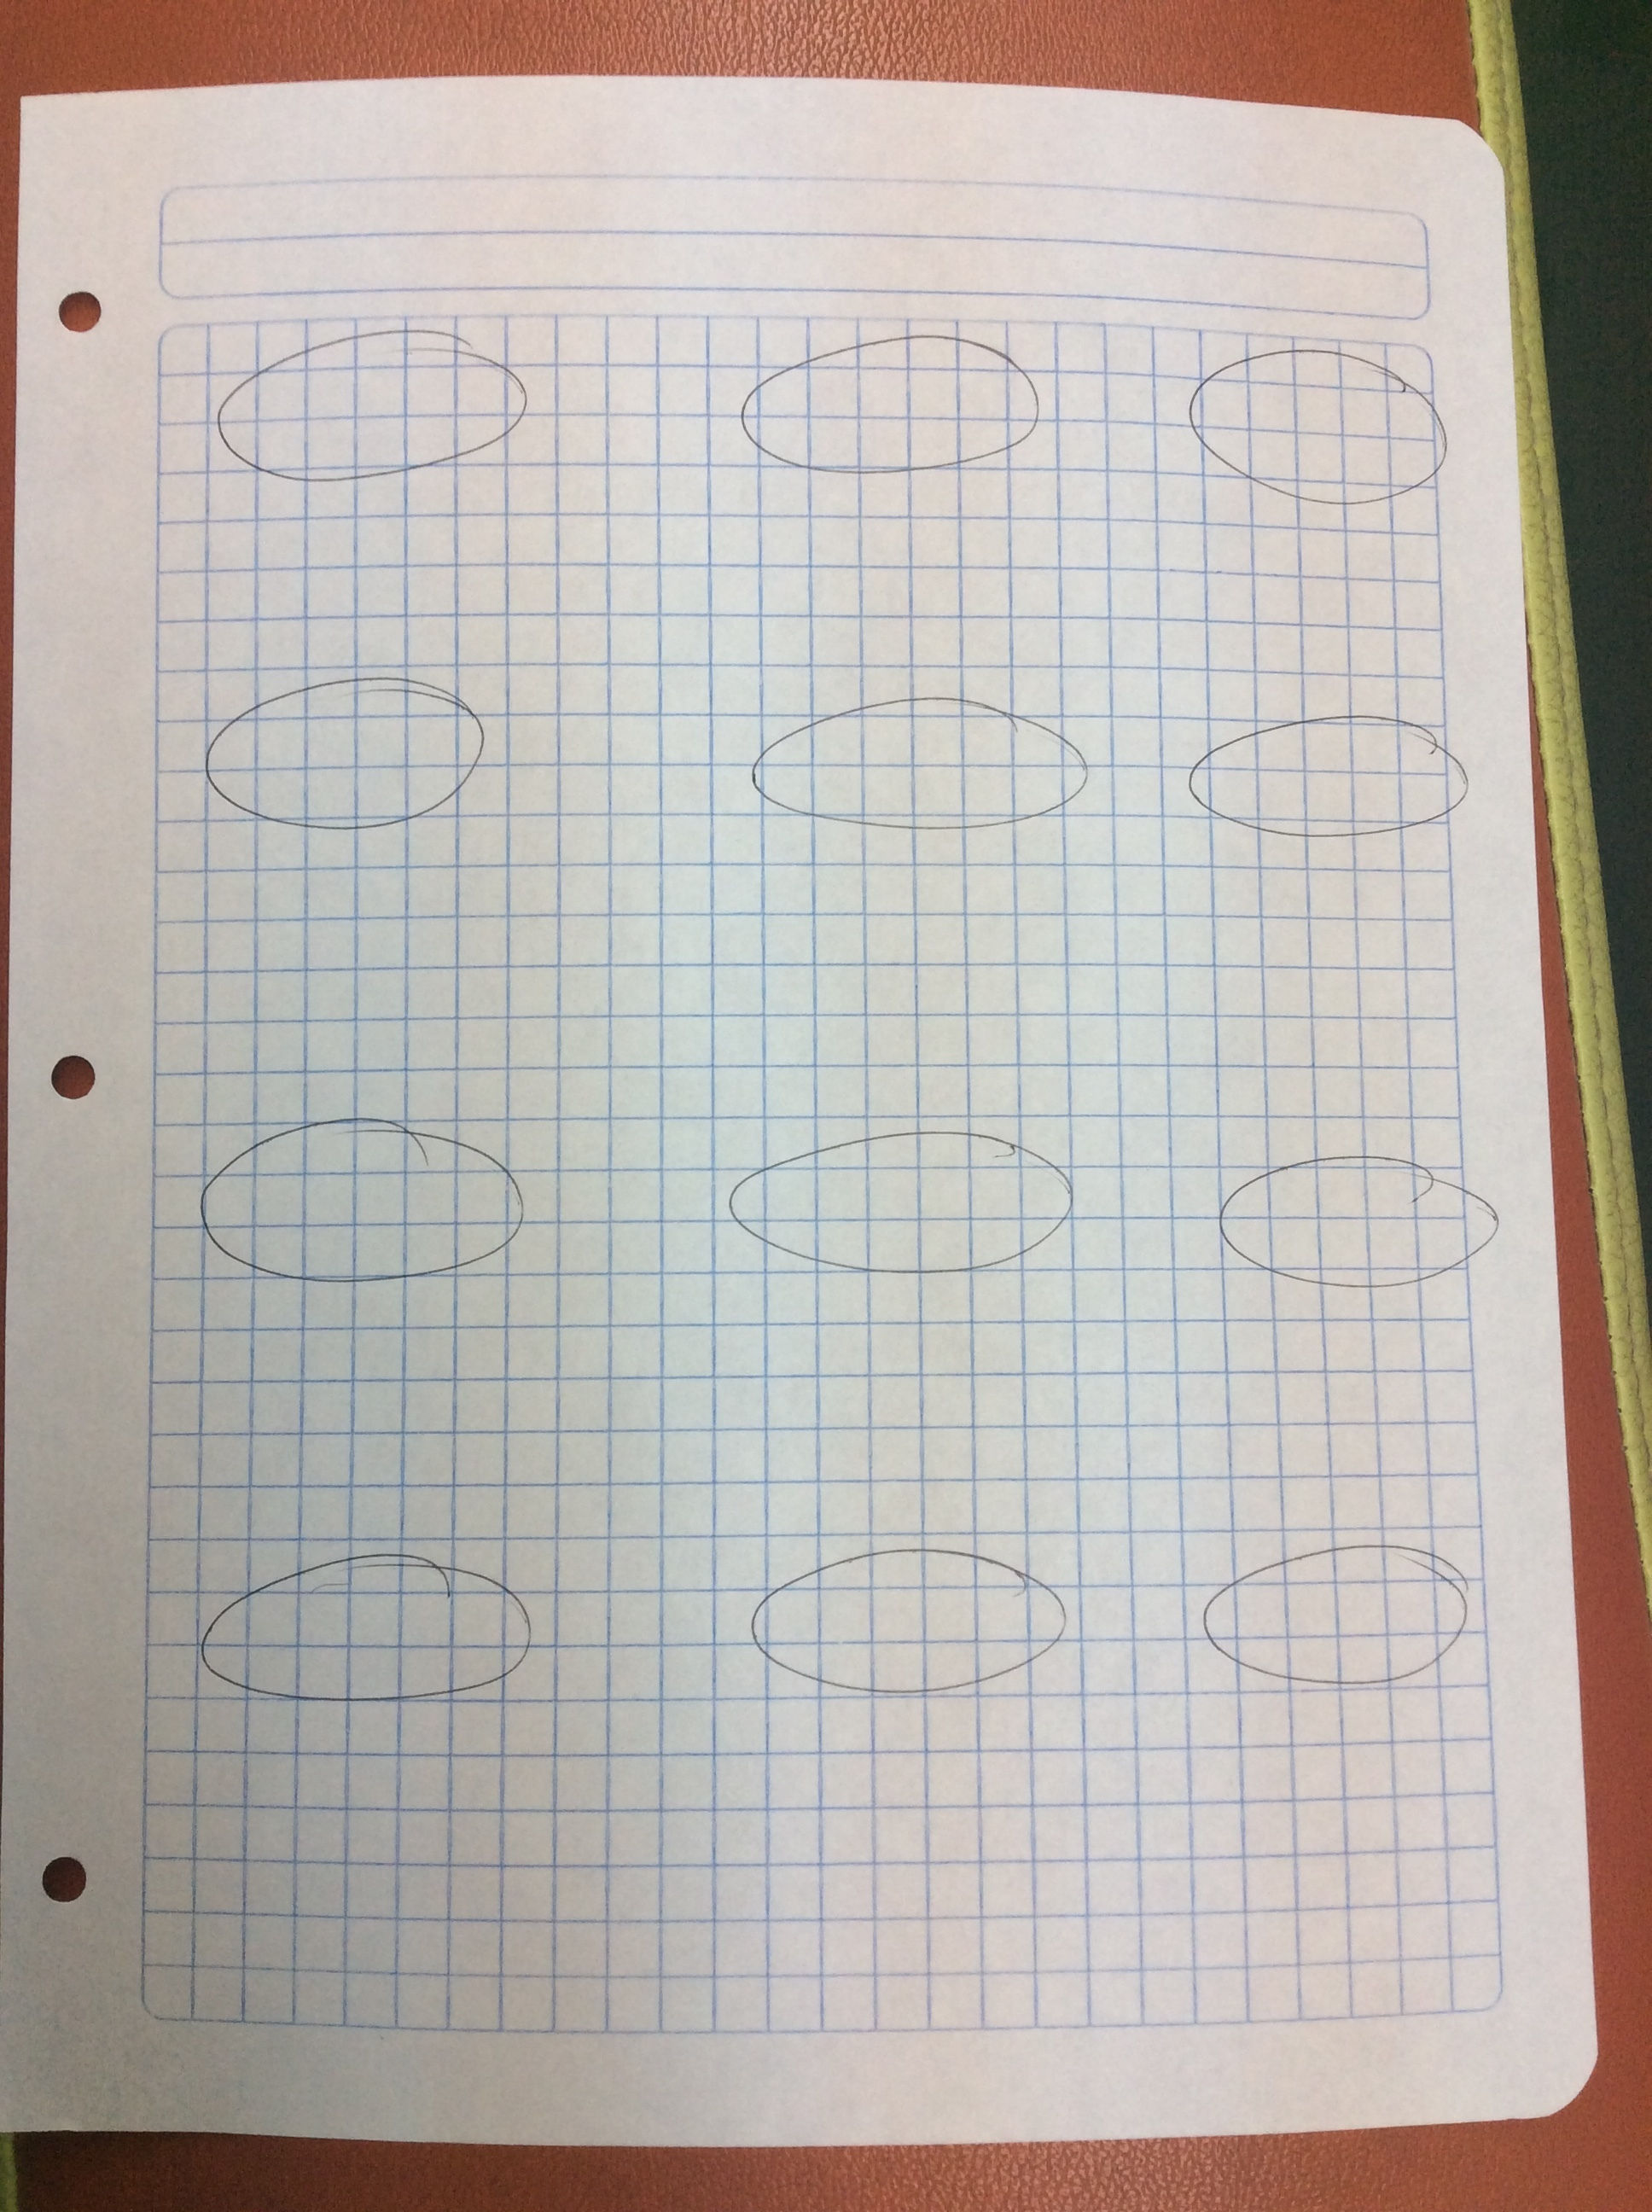start_end: (158, 1076, 555, 1327), (172, 1516, 552, 1751), (715, 1527, 1107, 1740), (708, 307, 1078, 522), (715, 1096, 1107, 1298), (711, 659, 1114, 847), (200, 307, 552, 512), (172, 656, 507, 864), (1159, 307, 1470, 529), (1187, 1523, 1520, 1724), (1189, 1122, 1520, 1324), (1170, 673, 1484, 861)
